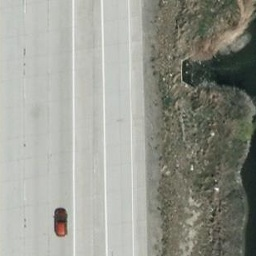car: (53, 210, 69, 236)
